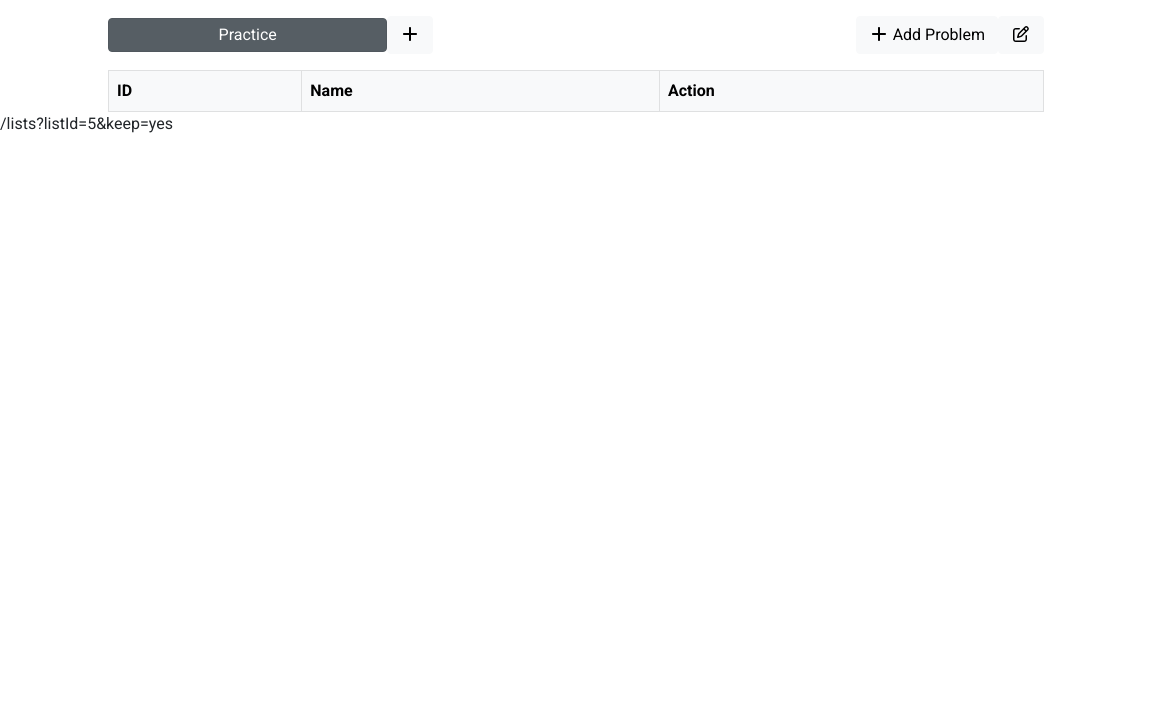
confirmed deletion clears the selected content and preserves unrelated URL parameters
Click the button named "Edit list" at coordinates (1021, 35), box x1=998 y1=16 x2=1044 y2=54
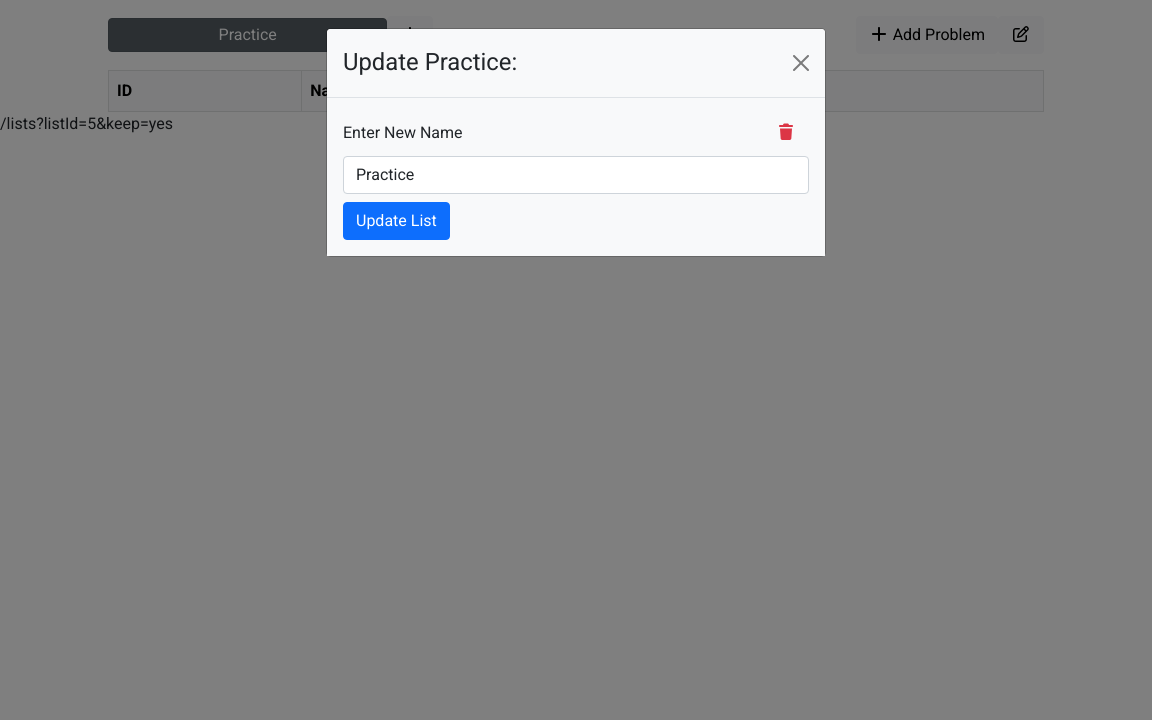
Click the button named "Delete list" at coordinates (786, 133), box x1=763 y1=114 x2=809 y2=152
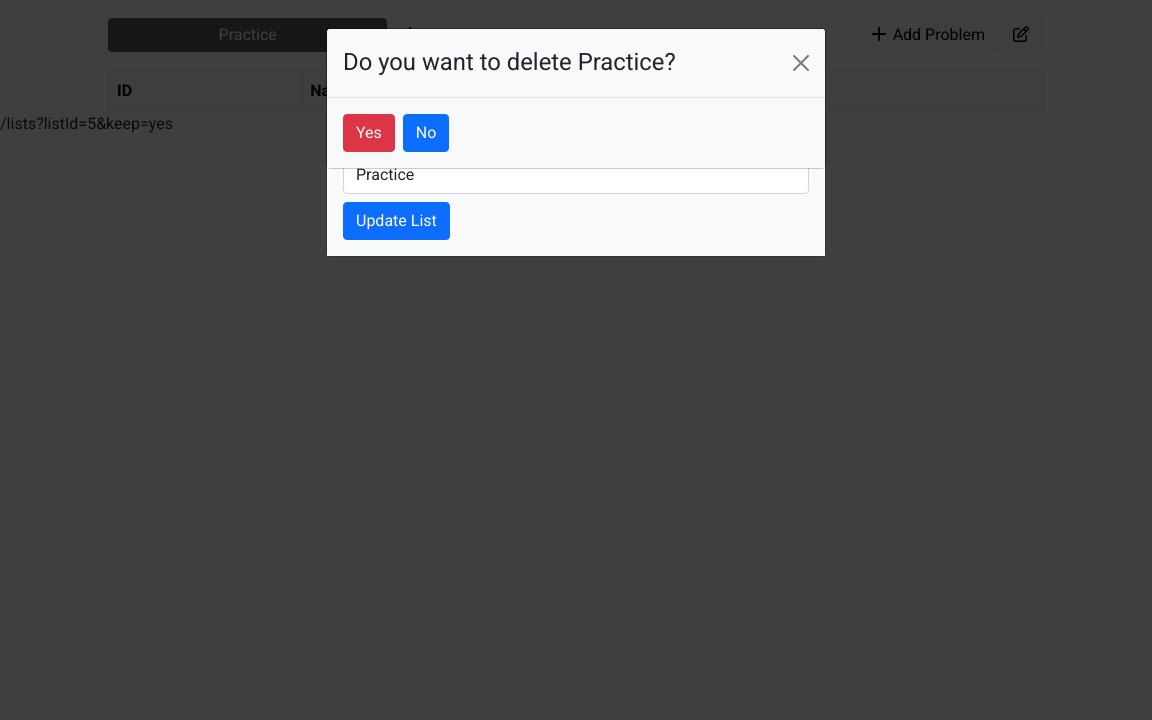
Click the button "Yes" at coordinates (369, 133), box x1=343 y1=114 x2=395 y2=152
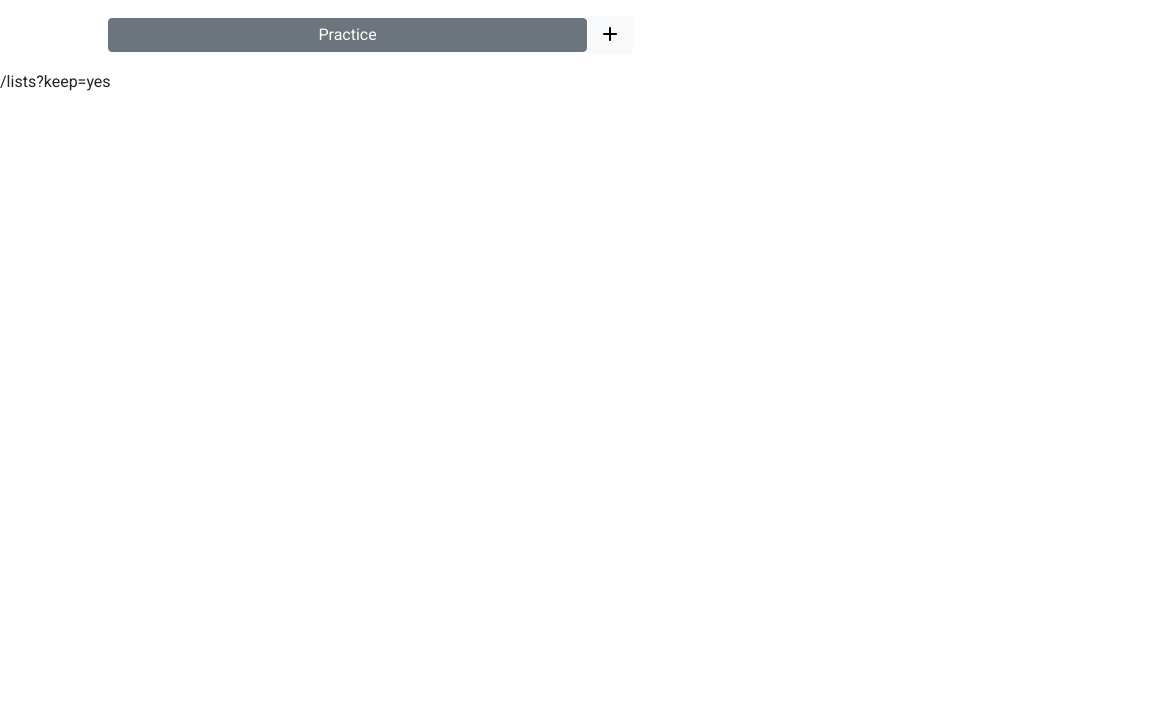
Now the button "Add Problem" is gone
Now the text with test id "location" reads "/lists?keep=yes", box x1=0 y1=70 x2=111 y2=94
Now the table is gone
